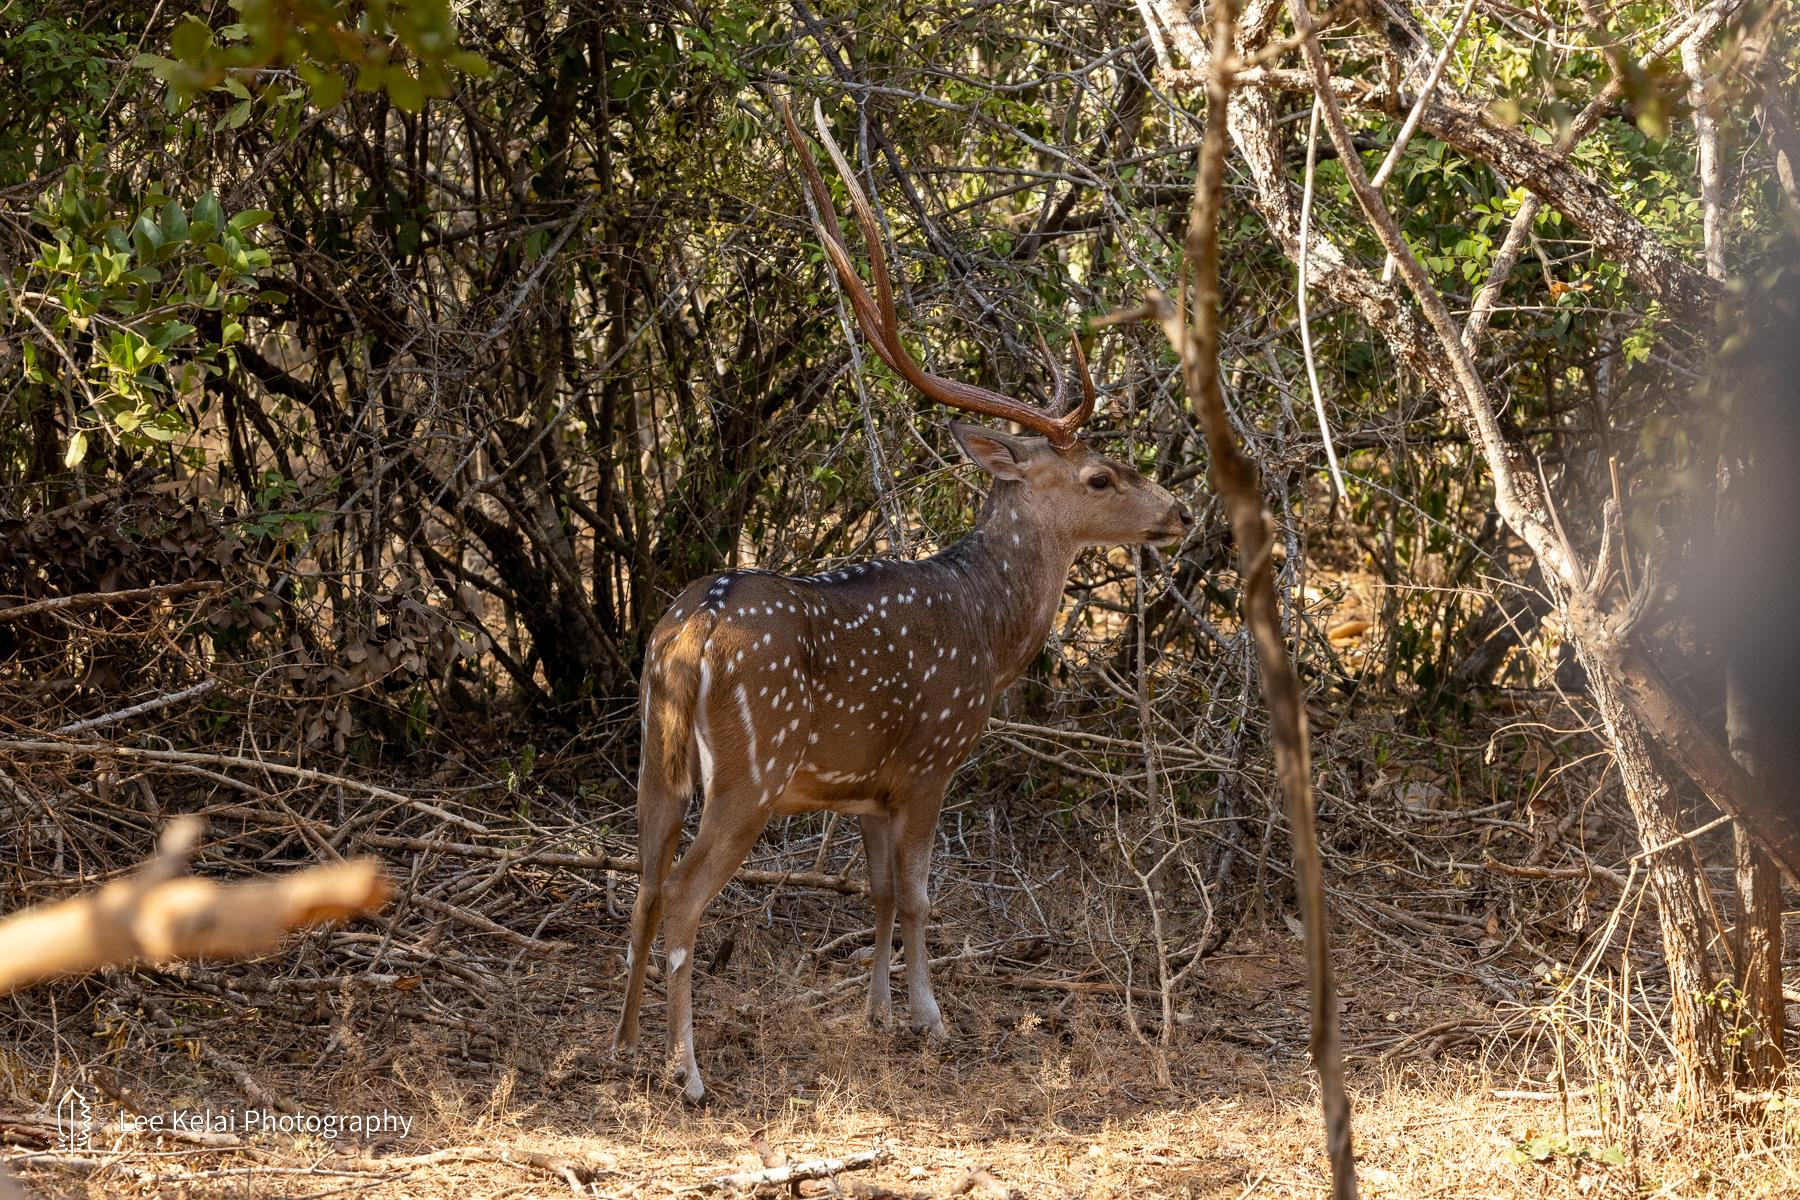Deer: (615, 117, 1191, 1101)
